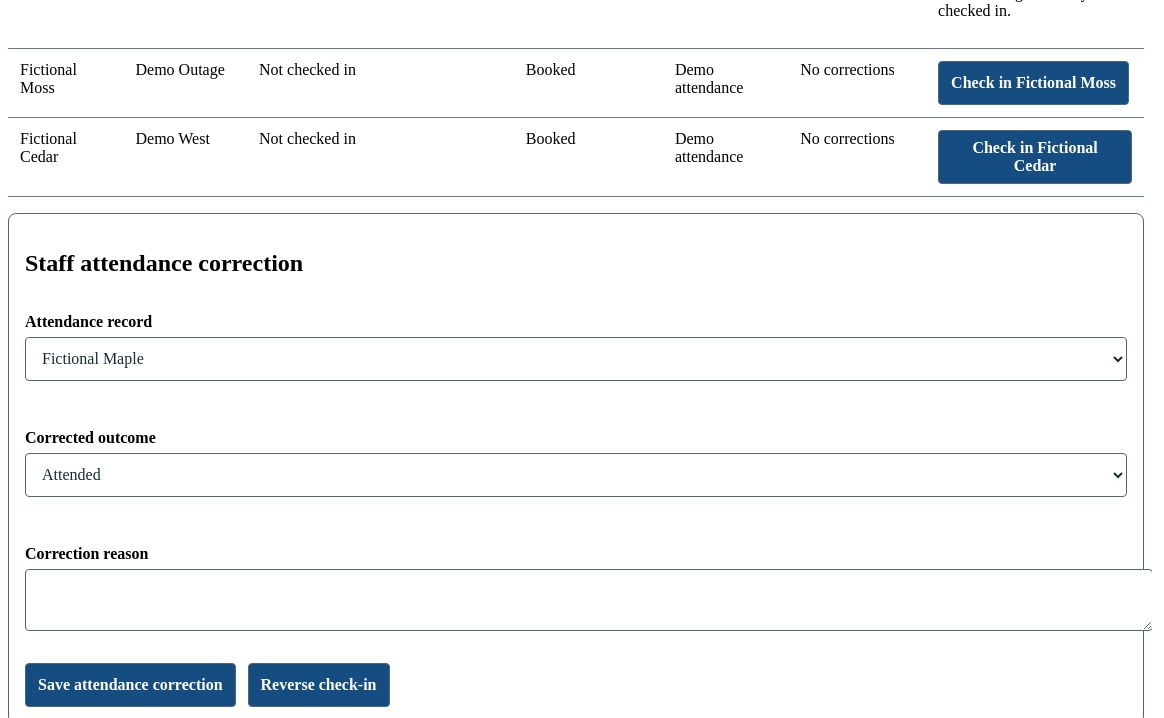
Test: staff attendance and history › rejects blank reasons and unchanged outcomes without mutation or success
The image size is (1164, 718).
(page scrolled)
Select "Fictional Cedar" in the dropdown labelled "Attendance record": (576, 359) [25,337,1127,381]
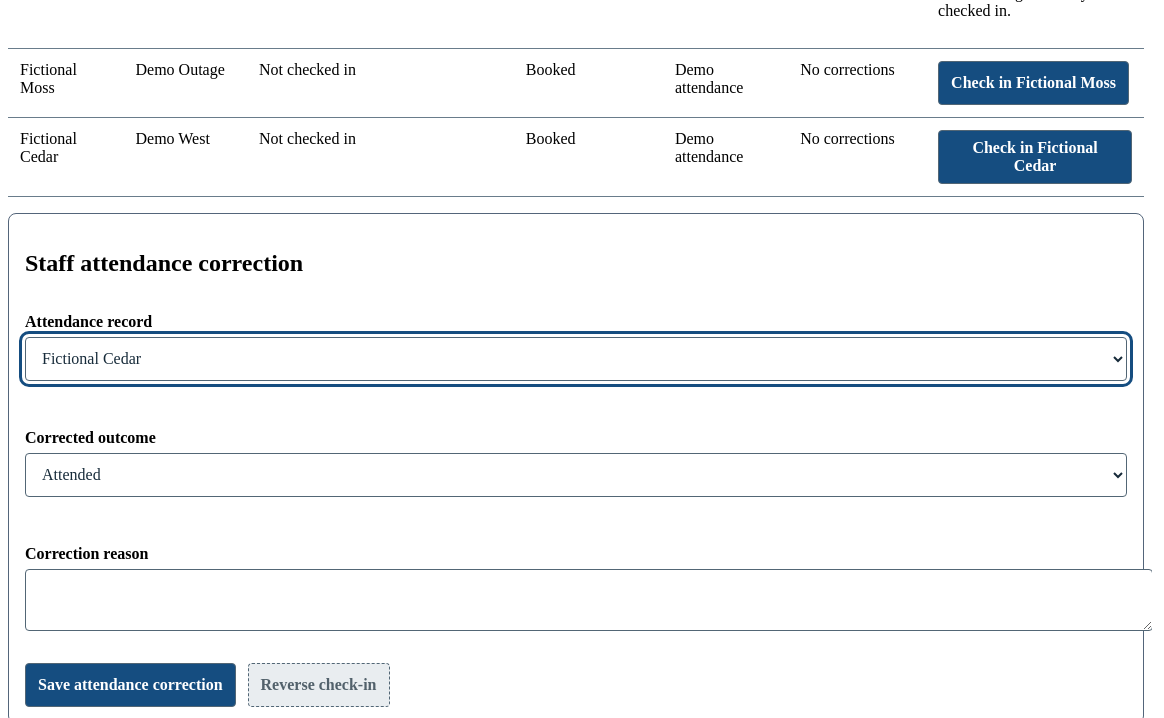
Click the button "Save attendance correction": (130, 685) [25,663,236,707]
(page scrolled)
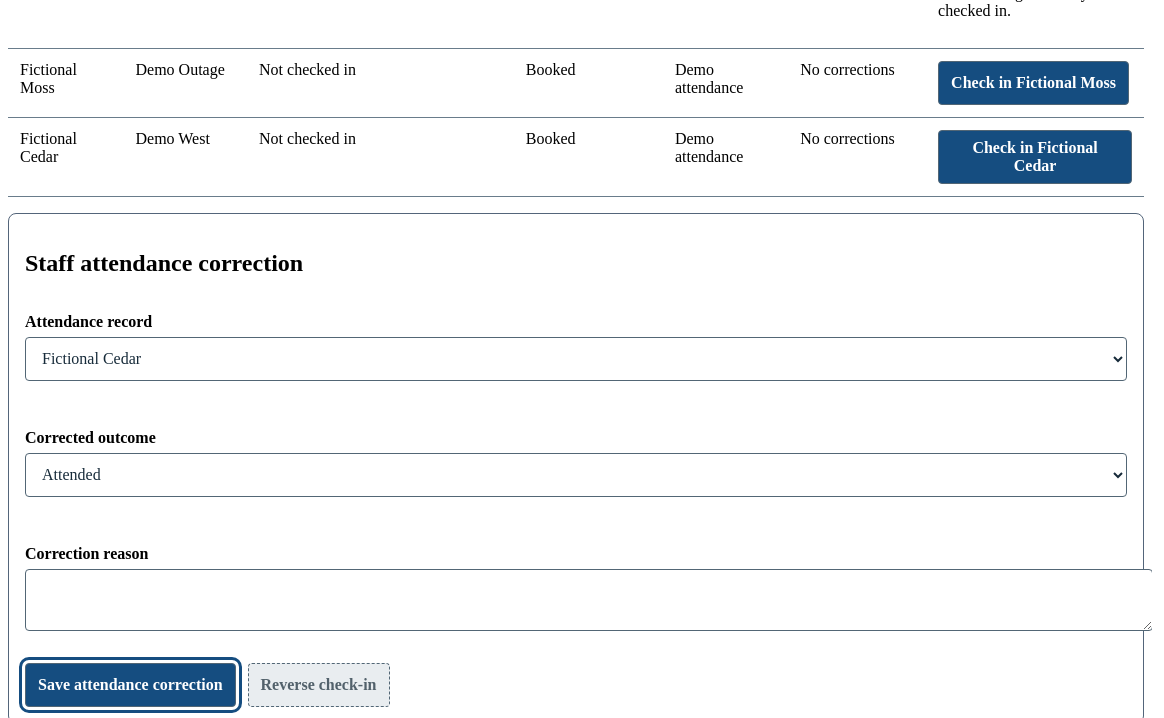
In the text box labelled "Correction reason": (588, 600) [25,569,1152,631], type "Fictional review"
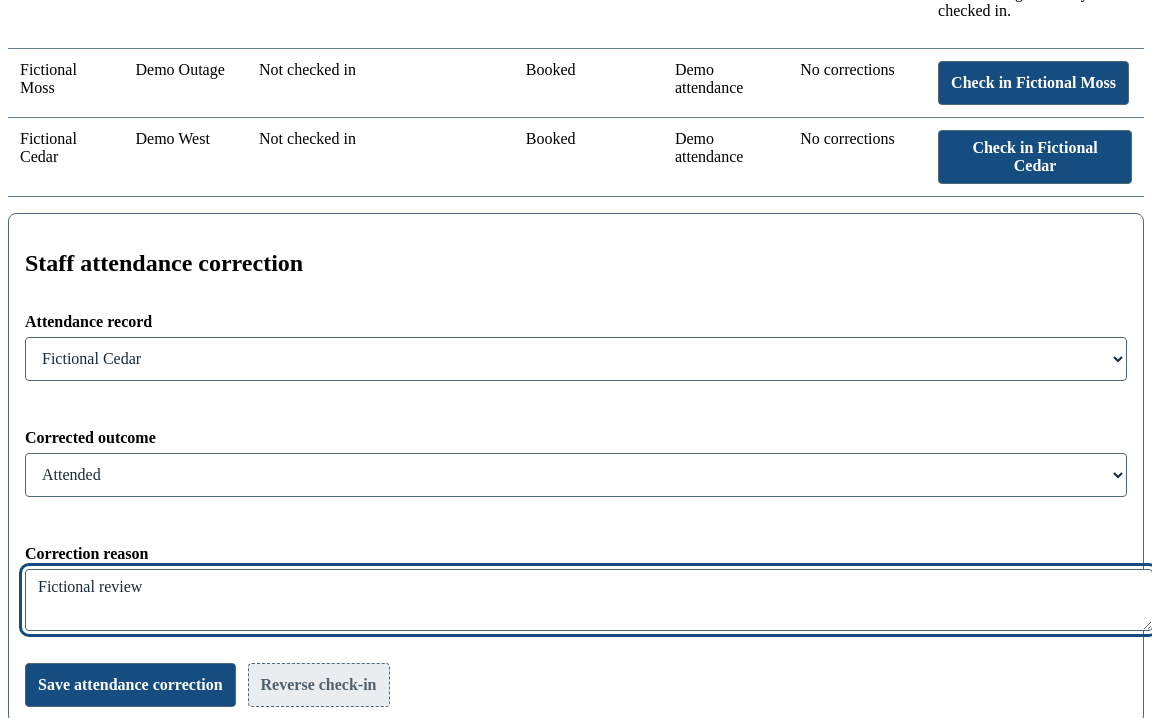
Select "Booked" in the dropdown labelled "Corrected outcome": (576, 475) [25,453,1127,497]
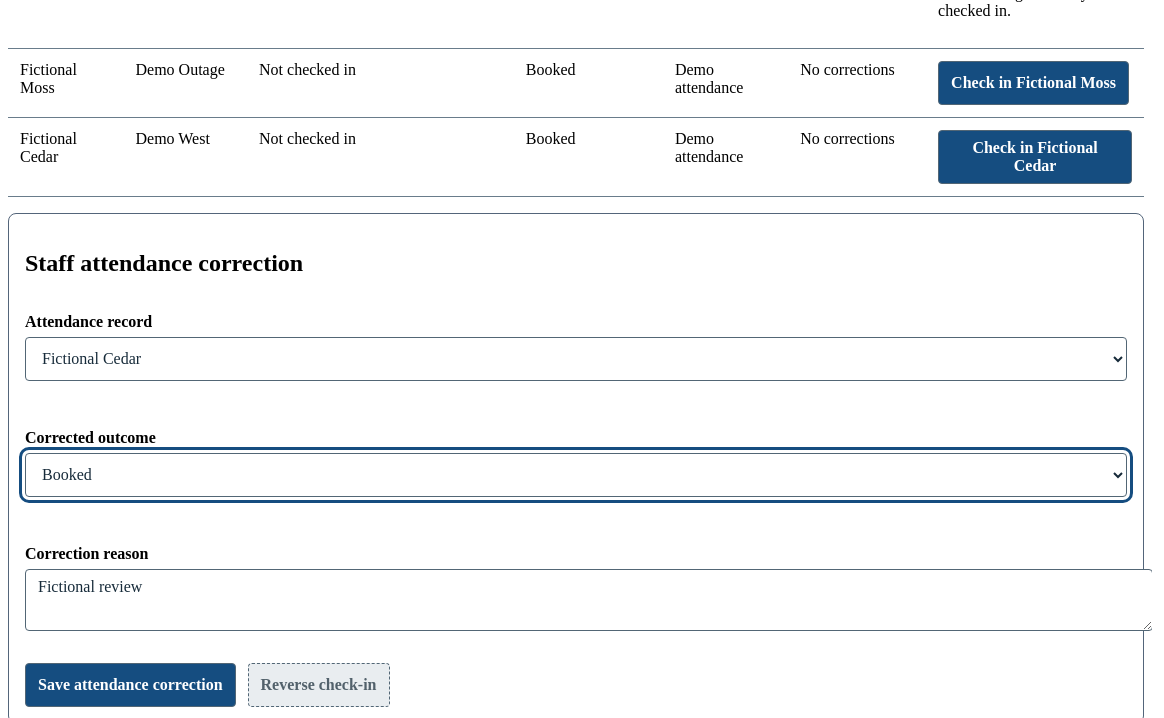
Click the button "Save attendance correction": (130, 685) [25,663,236,707]
(page scrolled)
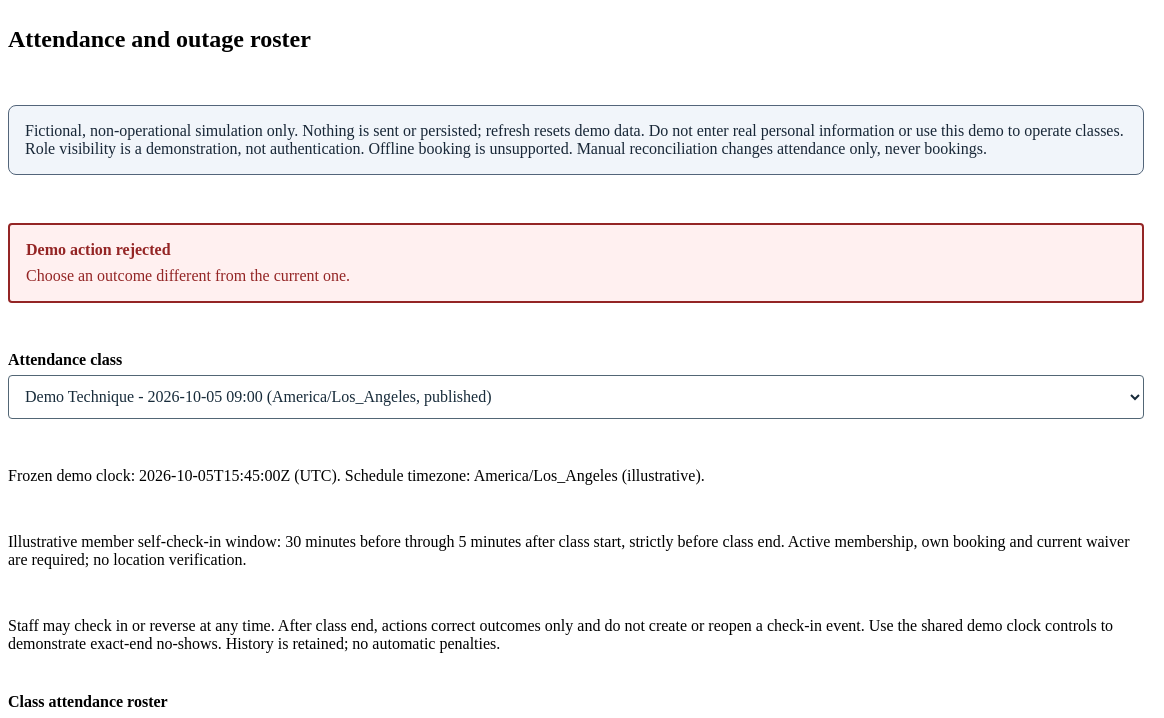
Expected: the message shows "different from the current", [26,267,350,284]
